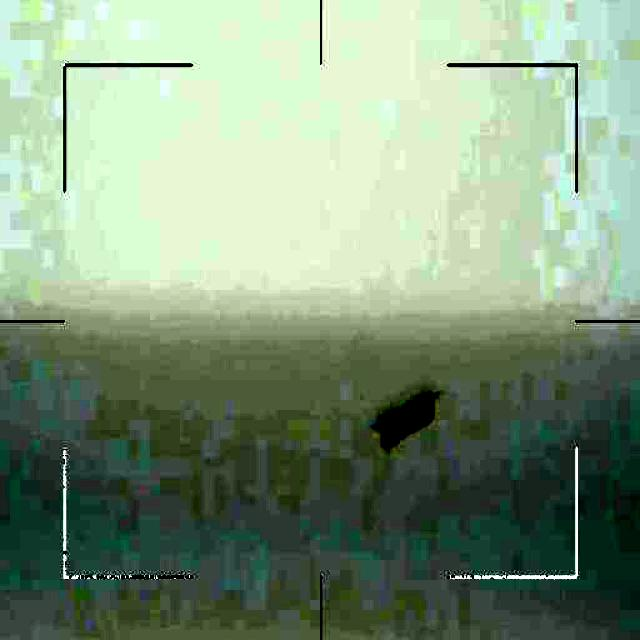bird: (374, 390, 439, 450)
